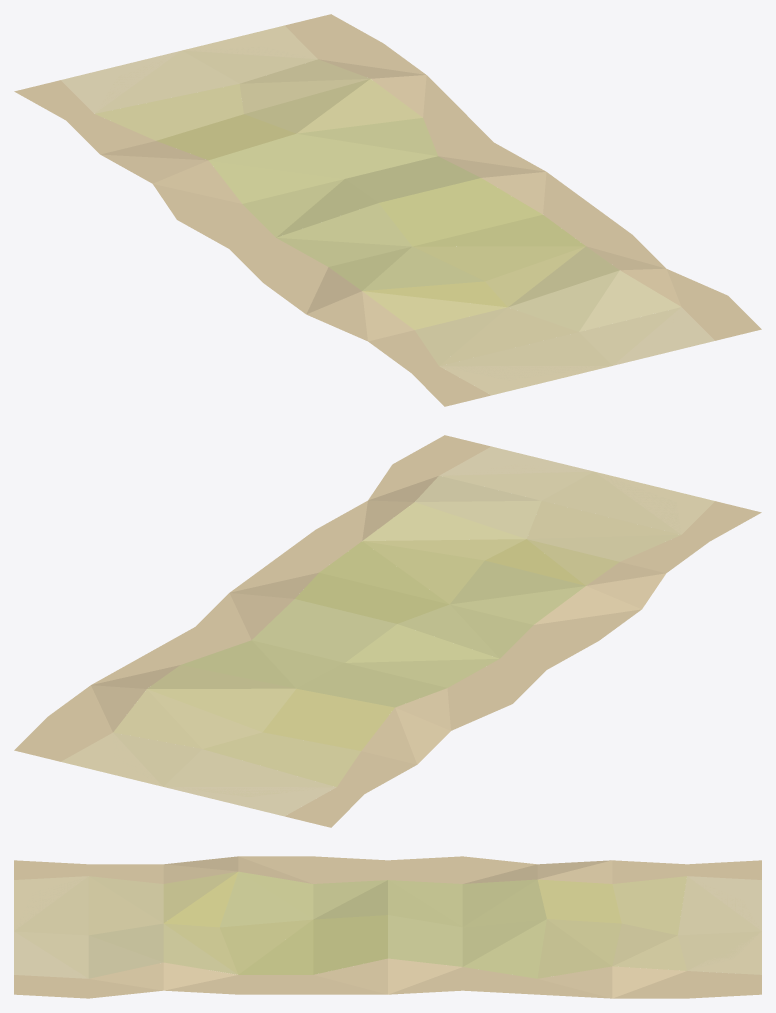
The model's file is grod.glb.
3 renders of one model, top to bottom at view 1: azimuth 30°, elevation 25°; view 2: azimuth 150°, elevation 25°; view 3: azimuth 270°, elevation 25°, orthographic. The views are drawn at different scales.
Visible parts, largest first — view 1: grod; view 2: grod; view 3: grod.
Boxes of the visible parts, left/top/right/bottom form: grod: left=14, top=14, right=761, bottom=406; grod: left=14, top=435, right=761, bottom=827; grod: left=14, top=856, right=761, bottom=998.
Bounding box in the file's own units: 25.2 × 0.7007 × 56.
